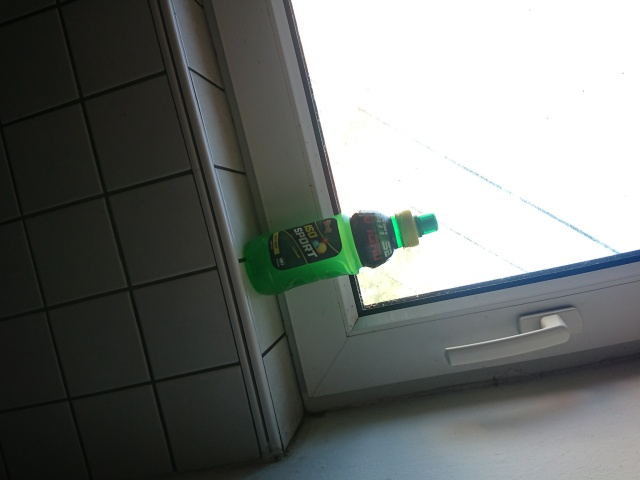Vindi Iso Sport Lemon-Grapefruit 500mL: (240, 207, 440, 299)
